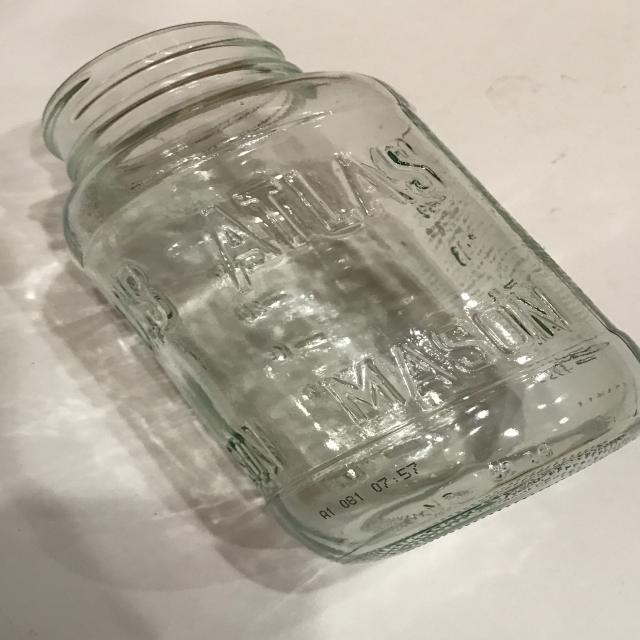glass: (38, 19, 640, 566)
